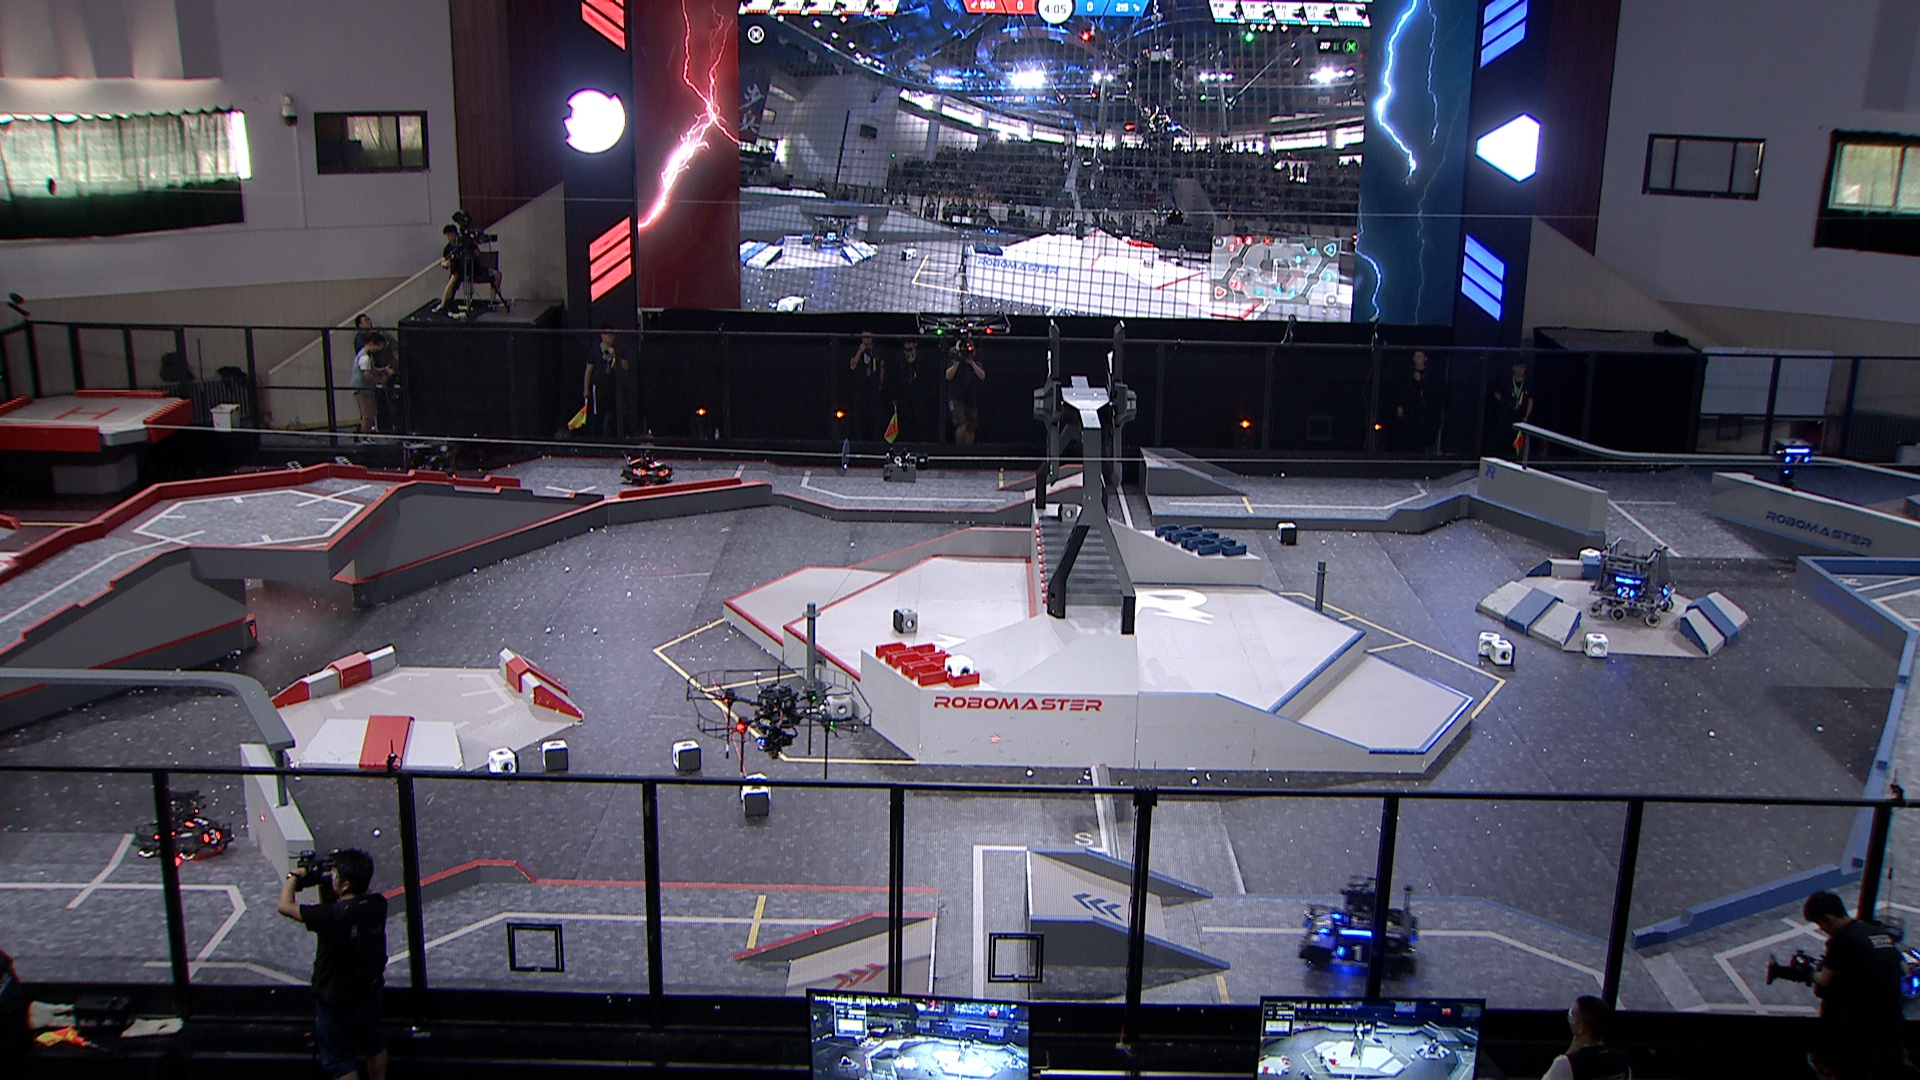armor: (1335, 944, 1371, 964), (1311, 913, 1335, 936), (1902, 945, 1920, 968), (202, 827, 223, 845), (1783, 454, 1812, 465), (183, 816, 212, 828), (1614, 585, 1636, 599), (655, 467, 671, 480), (646, 462, 666, 471), (632, 469, 647, 477)
car: (1300, 877, 1422, 975), (1584, 537, 1676, 629), (135, 785, 235, 861), (1840, 913, 1920, 1001), (400, 438, 465, 500), (617, 443, 675, 488)
ignore: (808, 215, 849, 253)
watcher: (1774, 436, 1813, 483)
